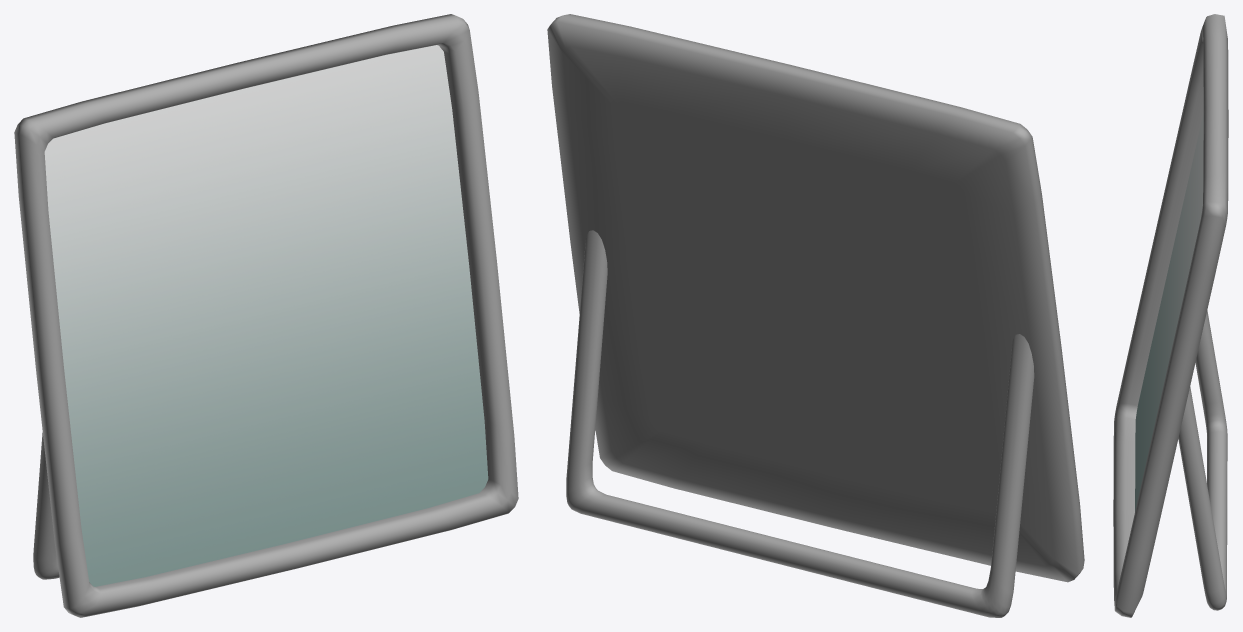
The model's file is mirrorWall.fbx.
3 views of the same model, side by side, from view 1: azimuth 30°, elevation 25°; view 2: azimuth 150°, elevation 25°; view 3: azimuth 270°, elevation 25° (orthographic). The views are drawn at different scales.
Visible parts, largest first — view 1: mirror; view 2: mirror; view 3: mirror.
Part boxes in pixels (x1,y1,x2,y2): mirror: (14,14,518,617); mirror: (547,14,1084,617); mirror: (1113,14,1228,617).
Size of the model in its own units: 132 by 130 by 32.25.
Materials: 2 (1 with a texture image).
